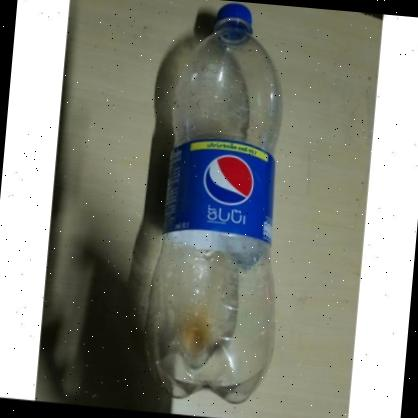bottle: (139, 0, 302, 407)
cap: (214, 1, 256, 32)
label: (159, 135, 280, 245)
